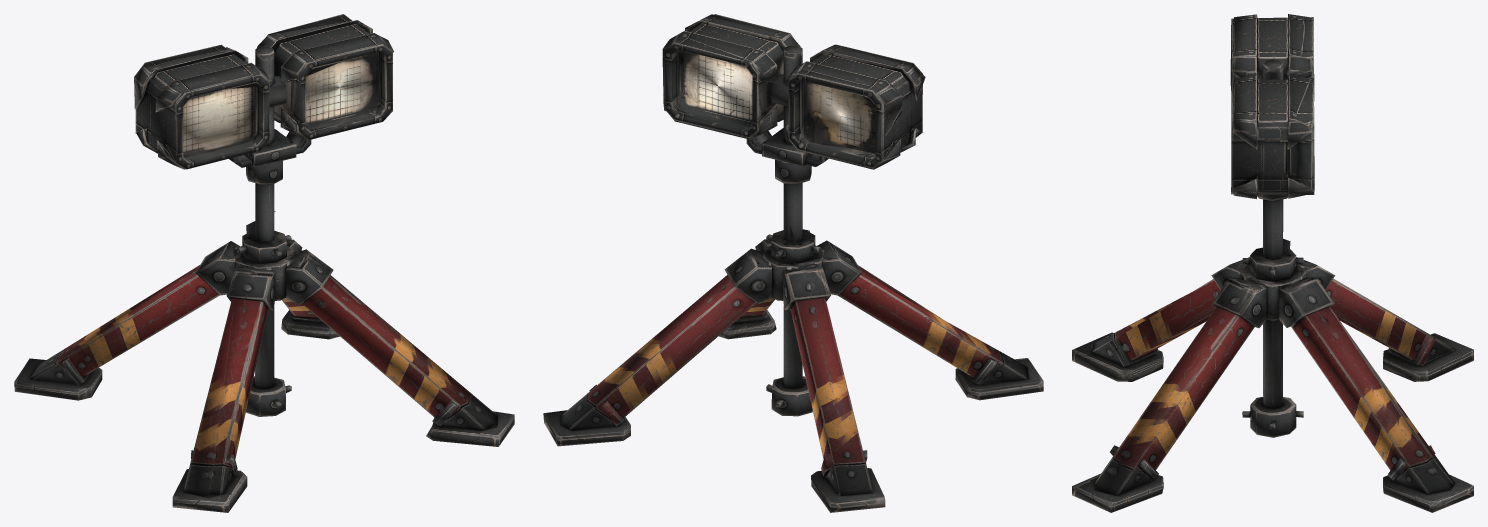
The model's file is Meshy_AI_Industrial_Tripod_Wor_0908191206_texture.glb.
3 views of the same model, side by side, from view 1: azimuth 30°, elevation 25°; view 2: azimuth 150°, elevation 25°; view 3: azimuth 270°, elevation 25° (orthographic).
Bounding box in the file's own units: 1 × 1 × 1.
Materials: 1 (1 with a texture image).
